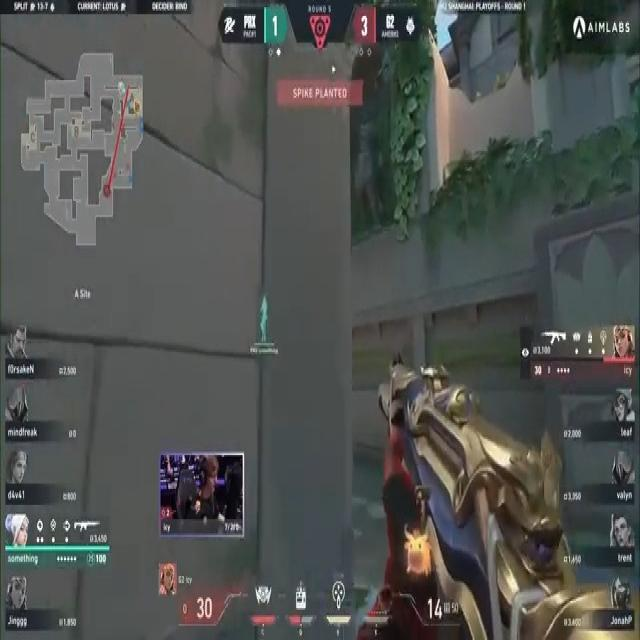ally behind wall: (260, 294, 270, 341)
